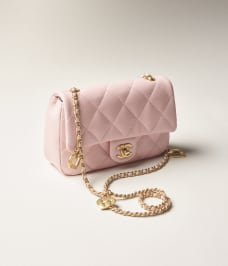channel: (42, 73, 186, 179), (86, 86, 169, 134), (96, 175, 169, 213), (70, 76, 89, 176), (108, 142, 138, 164)
